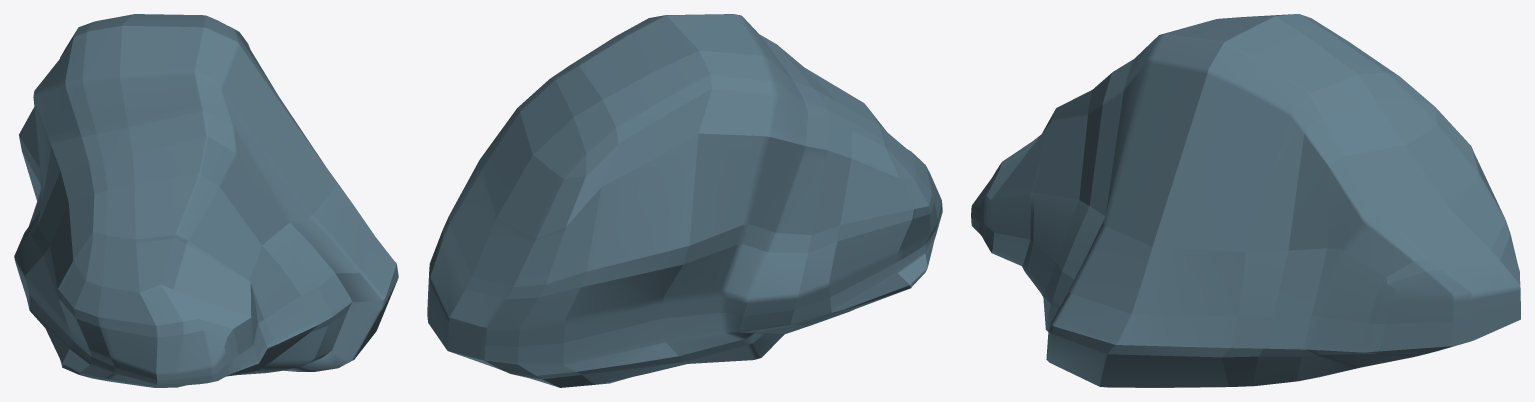
File: ROCKS_ROUND_J_PRIM.fbx
3 views of the same model, side by side, from view 1: azimuth 30°, elevation 25°; view 2: azimuth 150°, elevation 25°; view 3: azimuth 270°, elevation 25° (orthographic).
Parts seen in each view (by area): view 1: ROCKSROUNDJ_PRIM; view 2: ROCKSROUNDJ_PRIM; view 3: ROCKSROUNDJ_PRIM.
Part boxes in pixels (x1,y1,x2,y2): ROCKSROUNDJ_PRIM: (14,14,398,387); ROCKSROUNDJ_PRIM: (427,14,942,387); ROCKSROUNDJ_PRIM: (971,14,1520,387).
Size of the model in its own units: 16.11 by 14.07 by 22.62.
